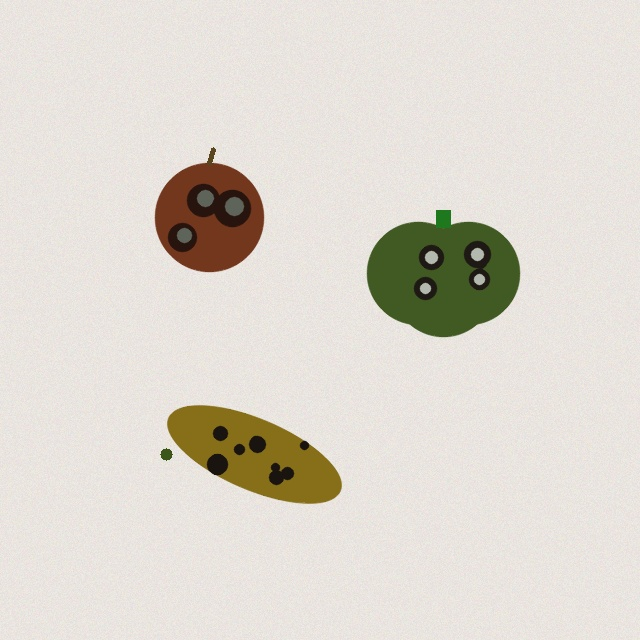Rotten apple: (155, 149, 263, 271)
Rotten banana: (157, 411, 351, 497)
Rotten bell pepper: (367, 210, 519, 336)
